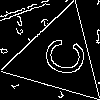C: (33, 32, 88, 80)
